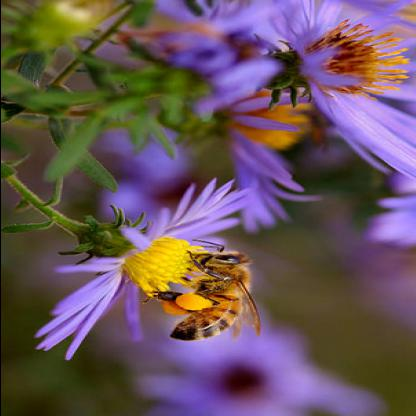other: (155, 244, 264, 344)
